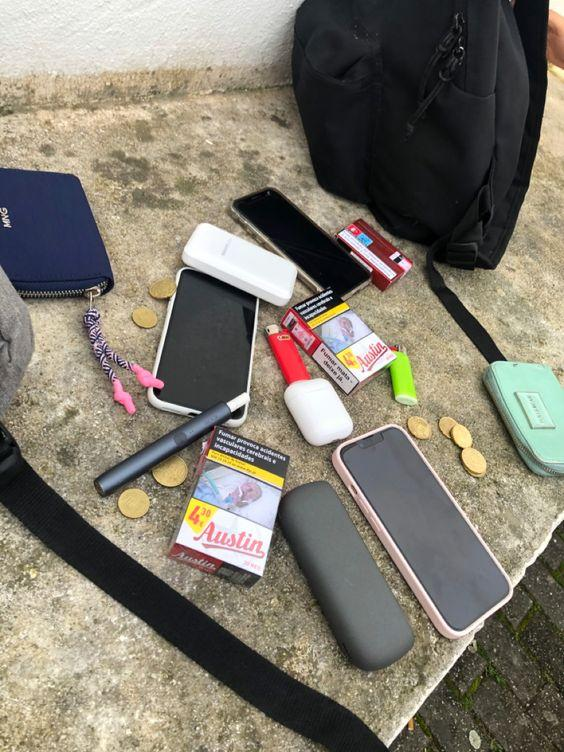iqos: (93, 391, 251, 497)
